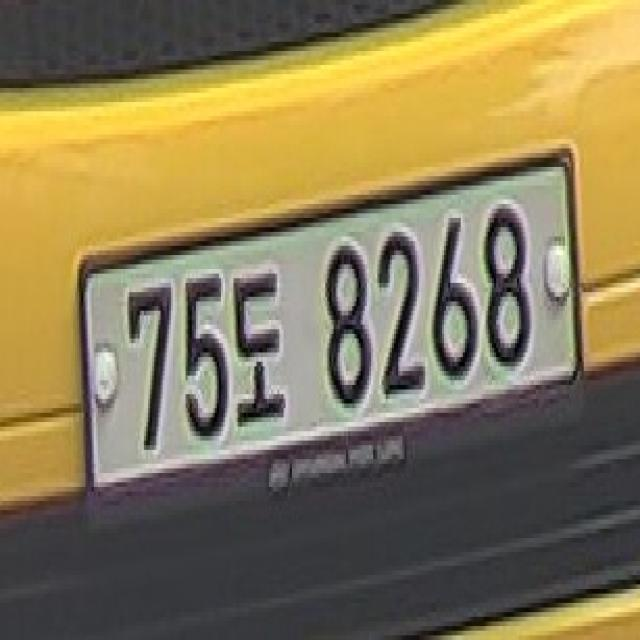plat: (76, 139, 585, 504)
